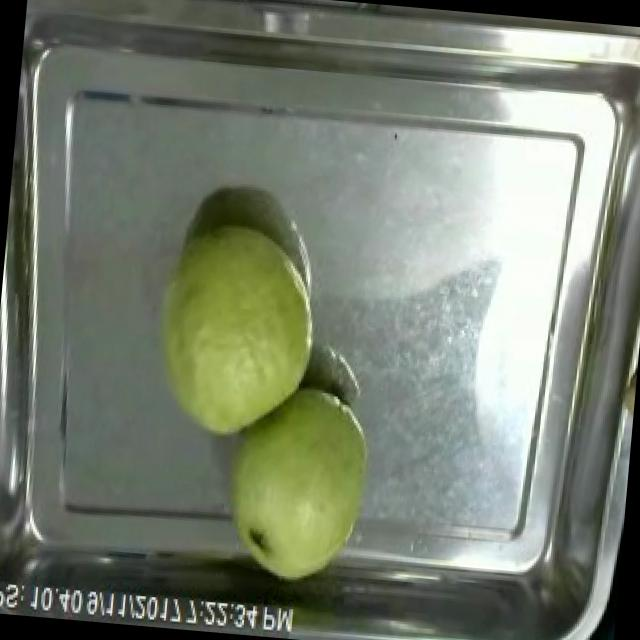Fruit: (134, 206, 330, 451), (206, 374, 388, 598)
